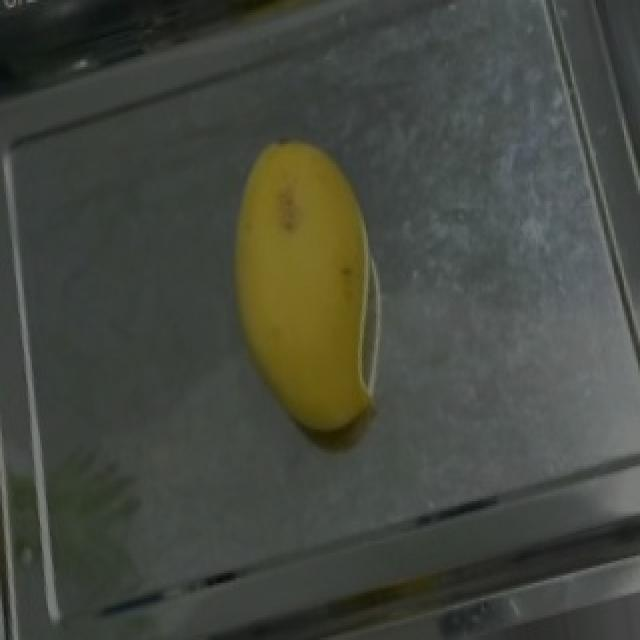fruit: (176, 107, 454, 471)
